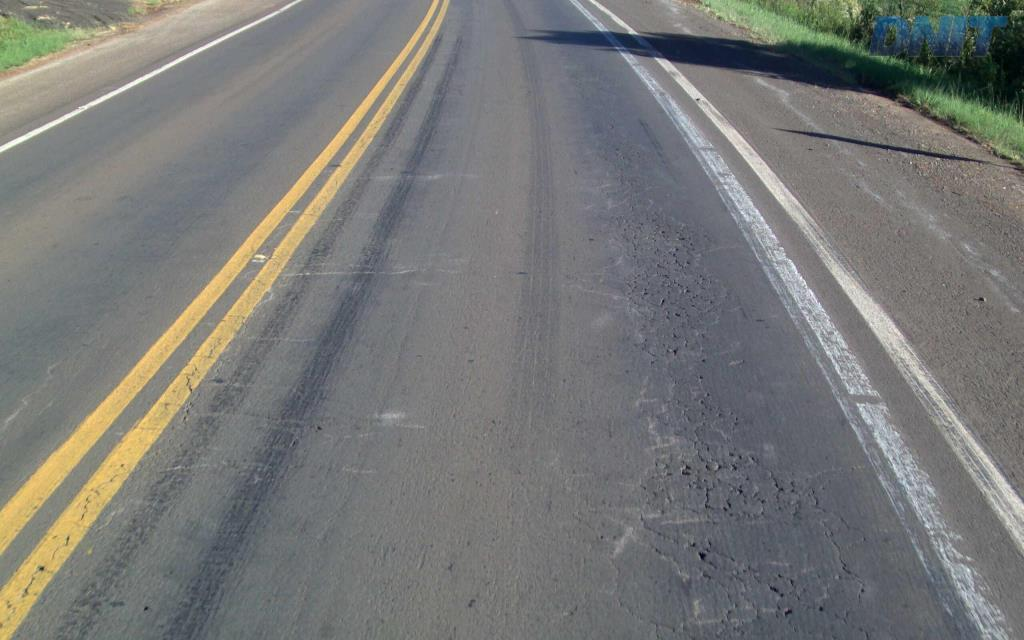crack: (732, 602, 778, 639), (688, 609, 736, 639)
